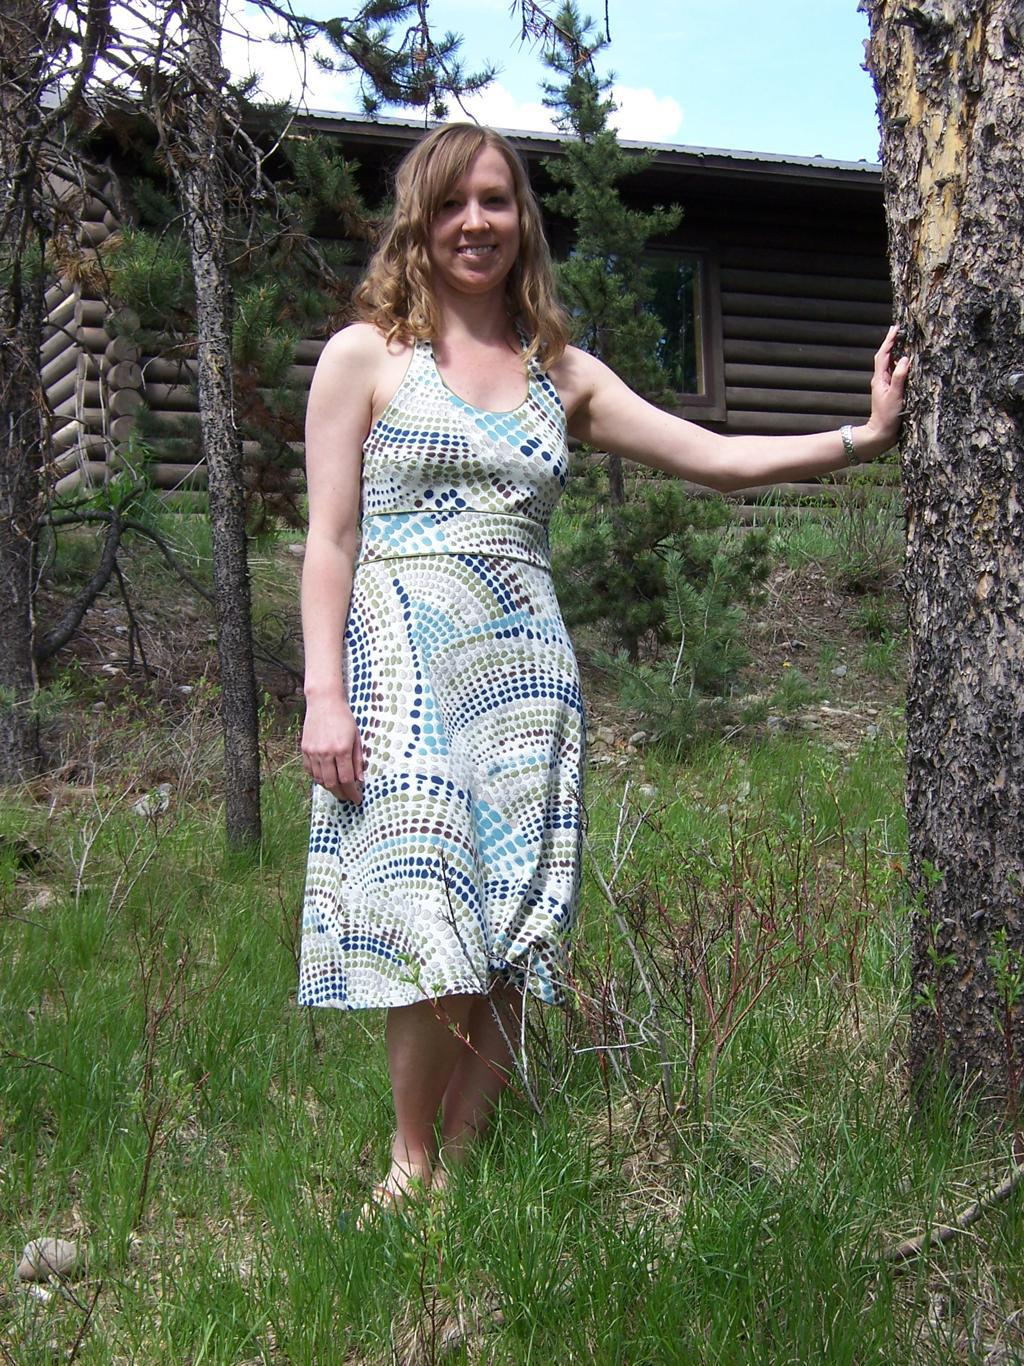face: (420, 142, 524, 283)
